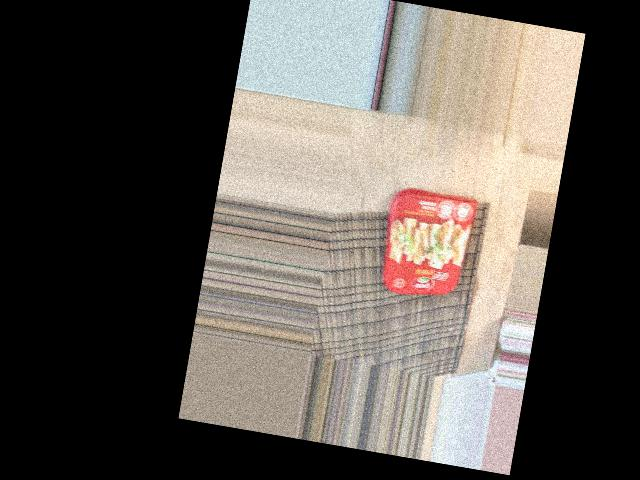cheese: (381, 177, 477, 304)
